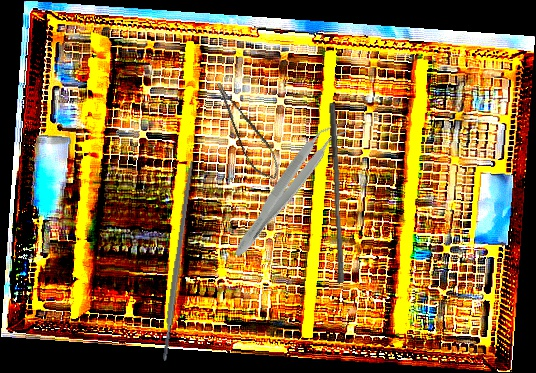Micro Scissor: (212, 73, 285, 187)
Pusher: (321, 102, 352, 284)
Scalpel Handle: (159, 158, 196, 364)
Tissue Forceps: (227, 114, 349, 266)
